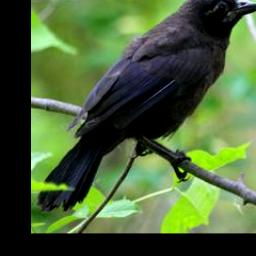Crow: (35, 0, 256, 213)
